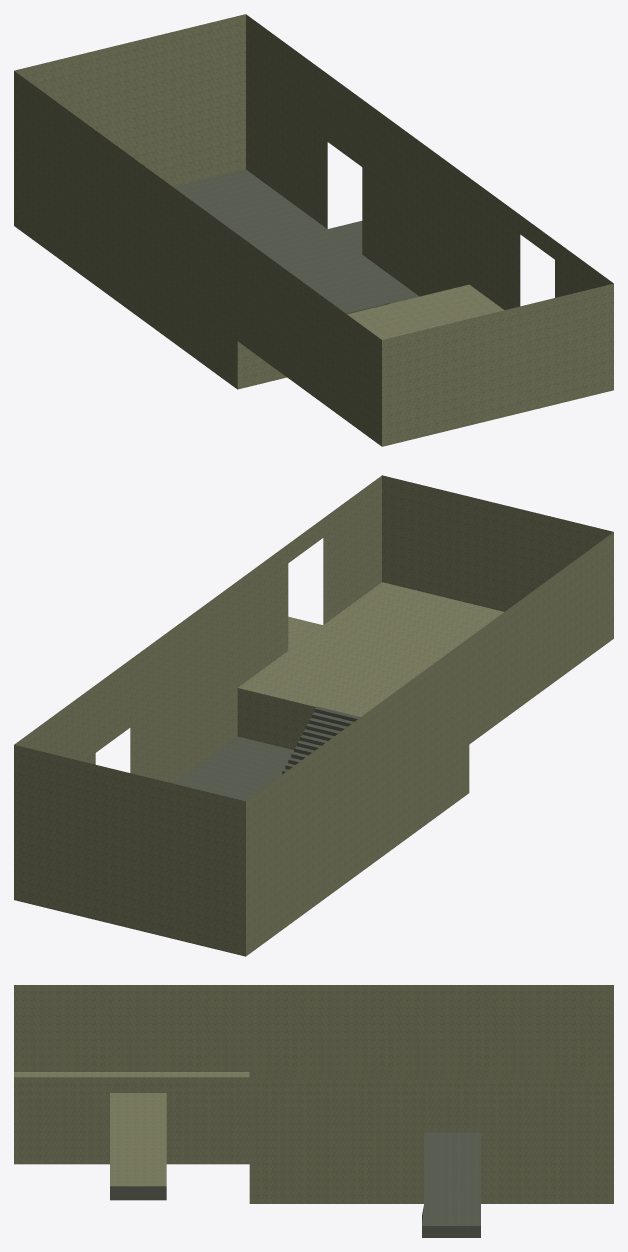
The model's file is ROOM_Right.fbx.
3 views of the same model, one above another, from view 1: azimuth 30°, elevation 25°; view 2: azimuth 150°, elevation 25°; view 3: azimuth 270°, elevation 25° (orthographic). The views are drawn at different scales.
Parts seen in each view (by area): view 1: ROOM_Right; view 2: ROOM_Right, Stairs; view 3: ROOM_Right.
Part boxes in pixels (left/top/right/bottom): ROOM_Right: left=14, top=14, right=613, bottom=446; ROOM_Right: left=14, top=475, right=613, bottom=956; Stairs: left=282, top=706, right=360, bottom=774; ROOM_Right: left=14, top=985, right=613, bottom=1237.
Bounding box in the file's own units: 3100 × 1750 × 6875.
